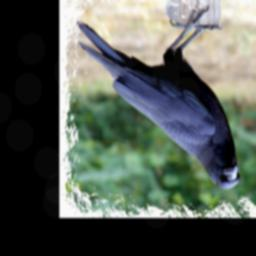Crow: (73, 2, 244, 190)
